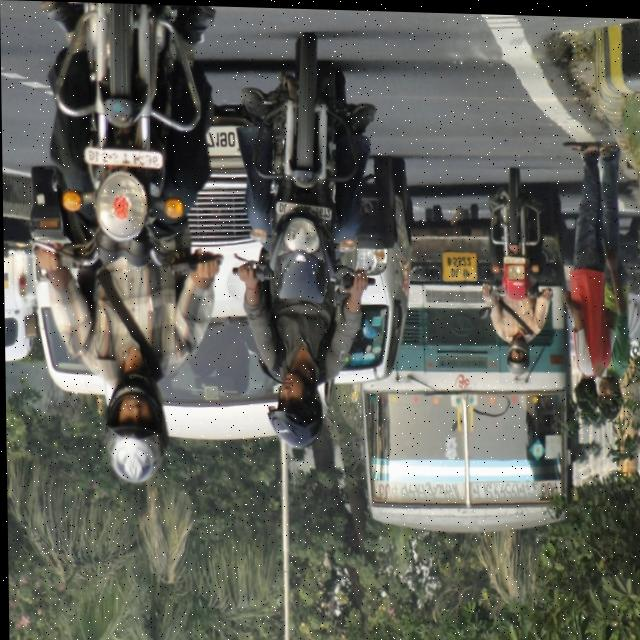plate: (82, 143, 164, 172), (272, 195, 337, 223), (438, 245, 477, 287), (502, 251, 528, 264)
